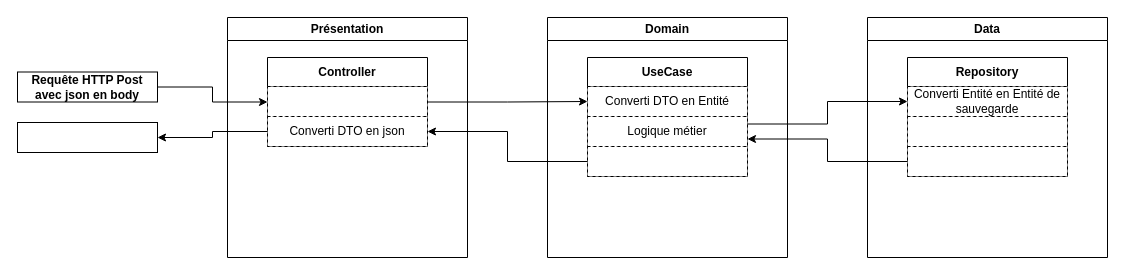
The diagram is 1125 pixels wide and 275 high, and some of its shapes have lost their labels. Here are the shapes that lost their labels. From the top down, the centre of each, then its label:
point 347,101: Converti json en DTO
point 87,137: Retour client
point 987,131: Sauvegarde de l'entité de sauvegarde
point 667,161: Converti Entité en DTO
point 987,161: Converti Entité de sauvegarde en Entité
